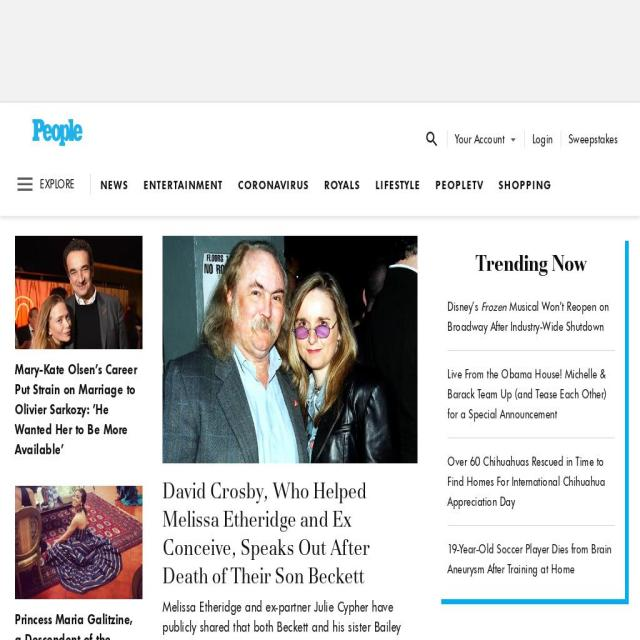button: (162, 236, 418, 464), (162, 477, 418, 591), (15, 236, 143, 350), (15, 486, 143, 600), (15, 115, 417, 149), (15, 359, 143, 460), (15, 609, 143, 640), (455, 131, 517, 147)
heading: (0, 102, 640, 216), (447, 250, 615, 277)
iframe: (92, 13, 548, 88)
image: (162, 236, 418, 464), (15, 236, 143, 350), (15, 486, 143, 600), (15, 119, 100, 146)
link: (143, 178, 223, 192), (238, 178, 310, 192), (498, 178, 552, 192), (435, 178, 484, 192), (375, 178, 421, 192), (324, 178, 361, 192), (100, 178, 129, 192), (481, 299, 507, 314)
text: (162, 476, 370, 592), (15, 360, 137, 459), (162, 596, 417, 640), (447, 453, 605, 510), (447, 366, 607, 422), (448, 541, 612, 577), (448, 299, 608, 334), (15, 610, 133, 640), (568, 132, 618, 146), (455, 132, 504, 146), (448, 299, 482, 314), (533, 132, 553, 146)
